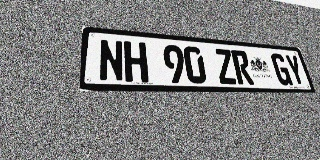0: (183, 46, 207, 84)
9: (162, 44, 187, 83)
G: (270, 53, 293, 86)
H: (124, 41, 149, 82)
N: (99, 39, 124, 82)
R: (231, 50, 255, 85)
Y: (284, 54, 307, 86)
Z: (213, 48, 238, 84)
